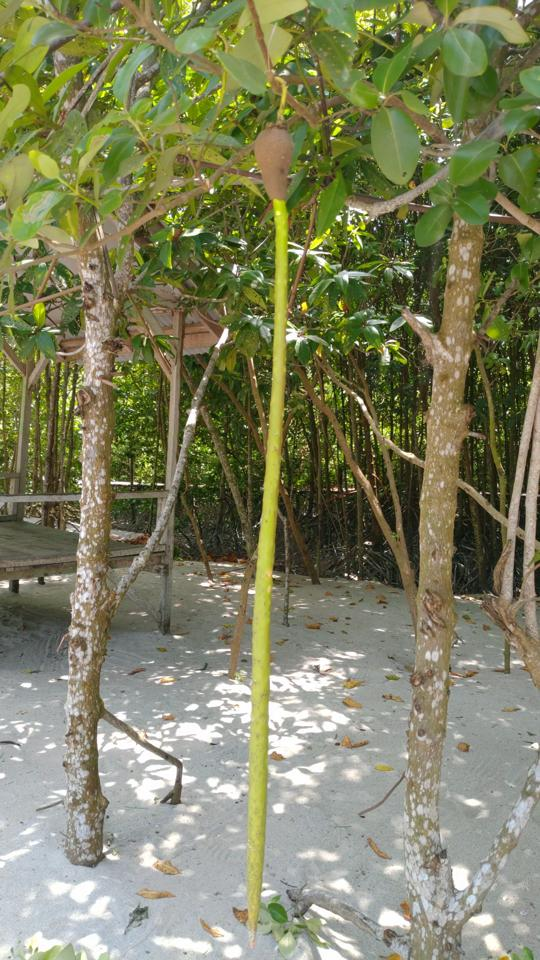mentah: (243, 116, 296, 948)
